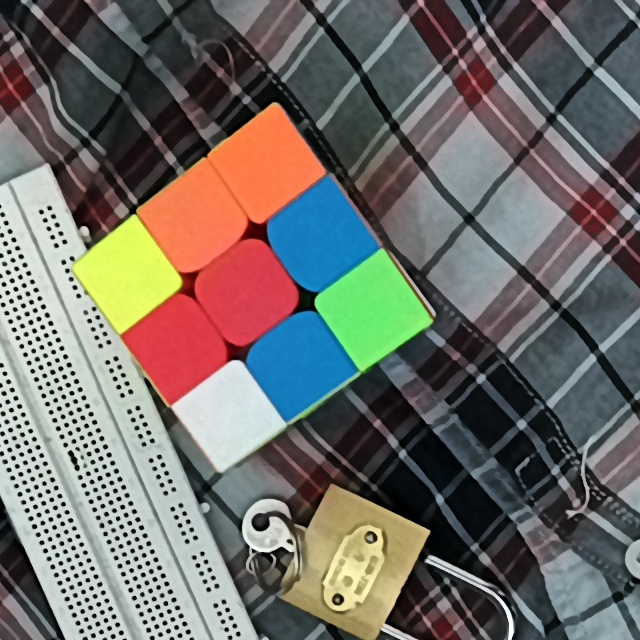tile: (290, 205, 354, 266), (158, 191, 224, 248), (339, 281, 401, 341), (232, 137, 296, 195), (215, 261, 279, 319), (95, 248, 155, 306), (145, 321, 208, 372), (271, 334, 328, 388), (203, 386, 259, 439)
